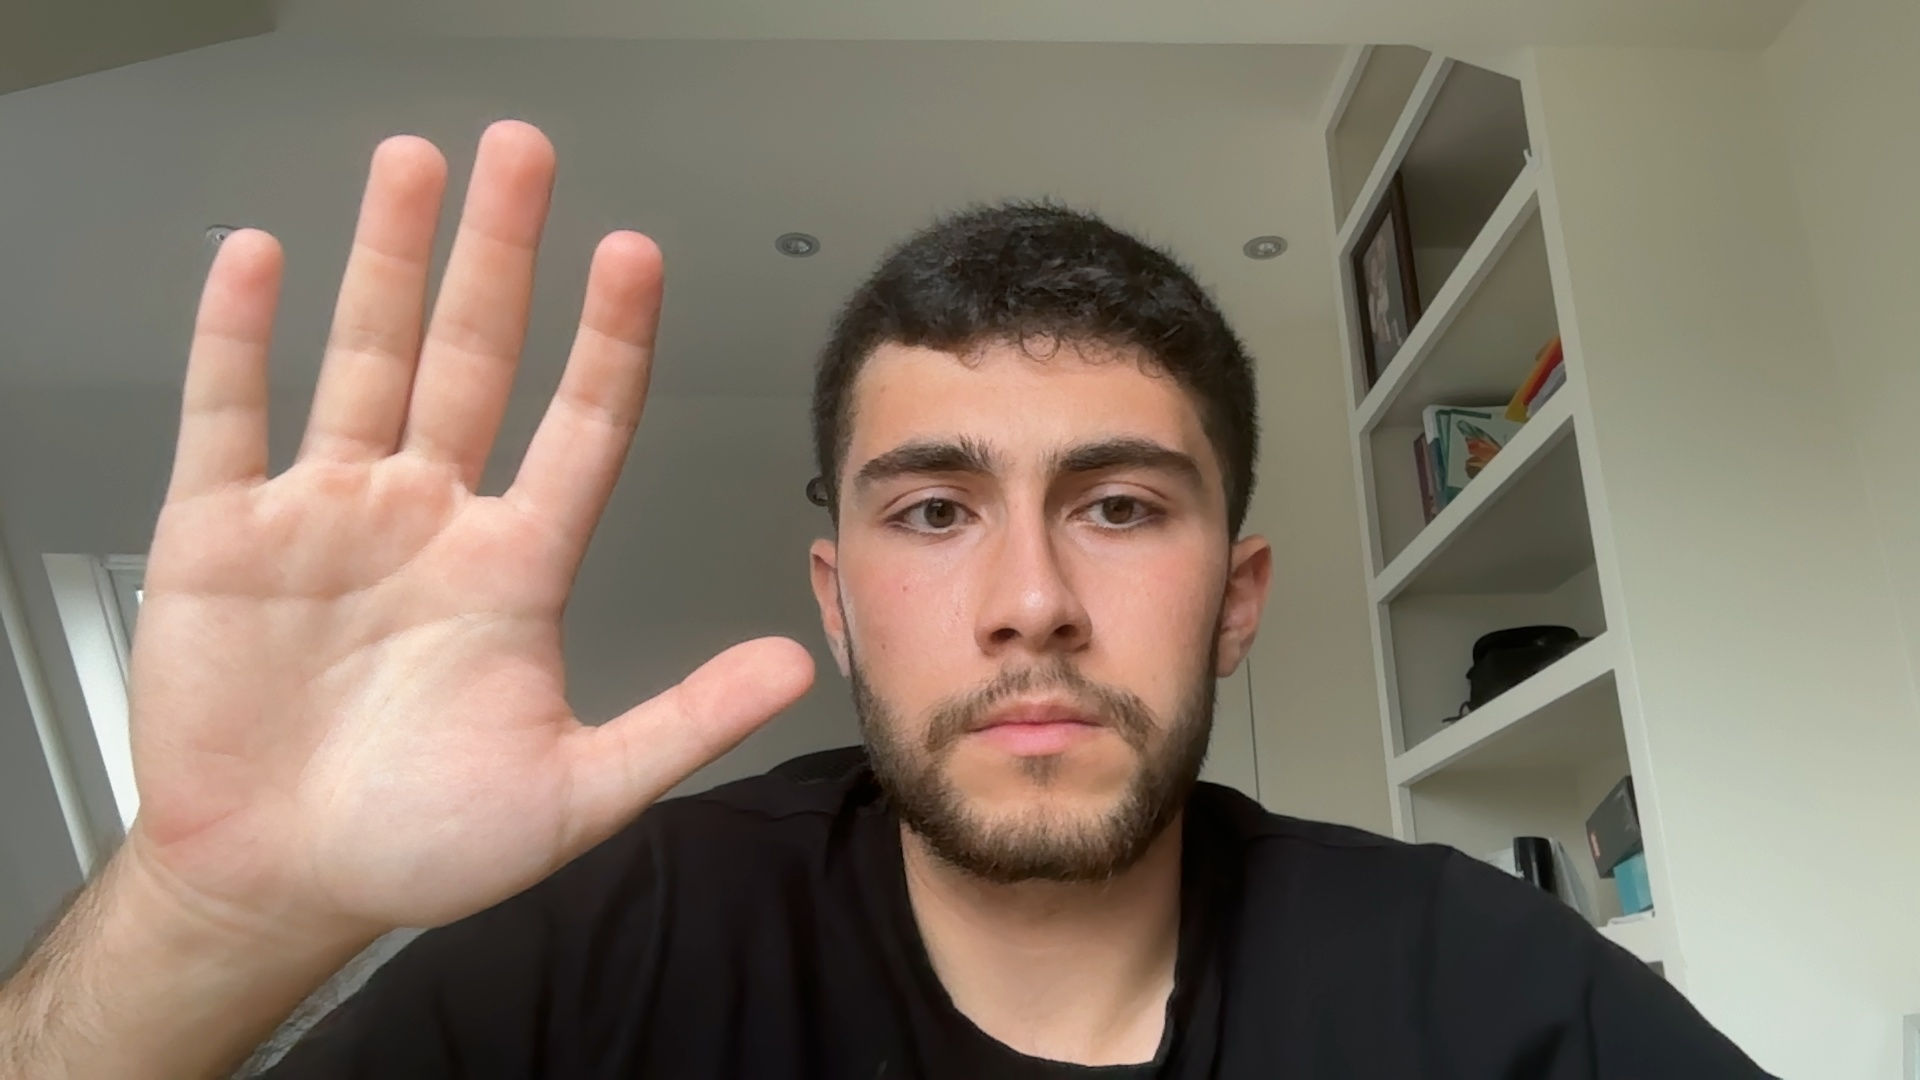Hello: (90, 84, 815, 964)
